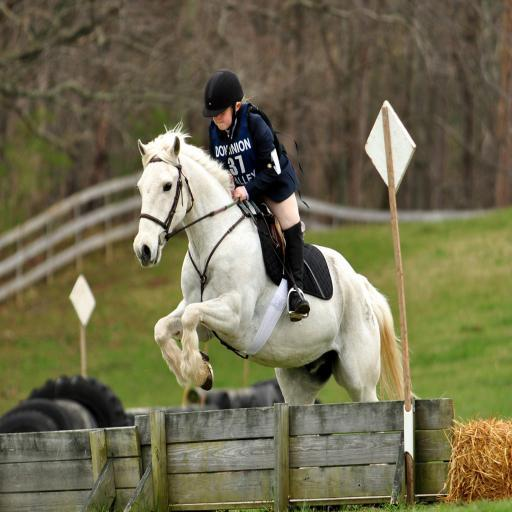Horse: (131, 117, 420, 466)
